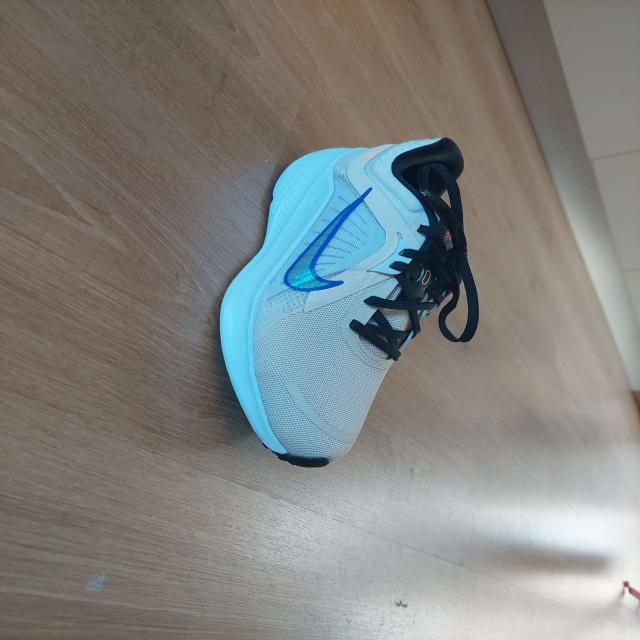shoe: (218, 135, 470, 468)
